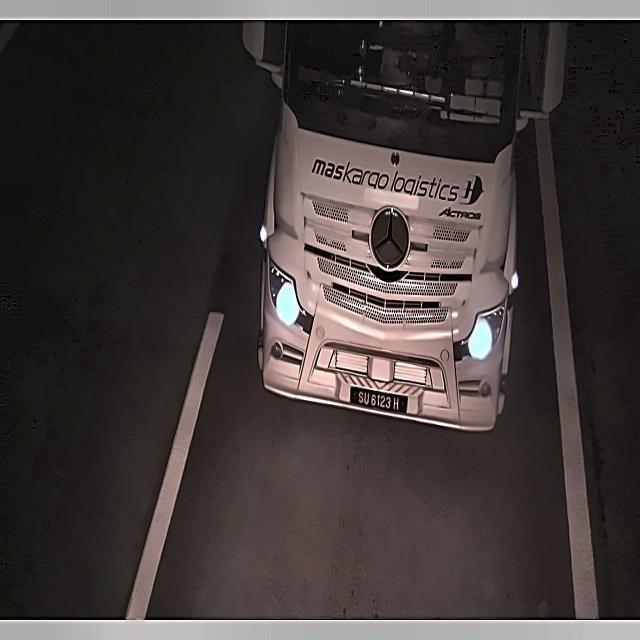car: (346, 382, 413, 421)
